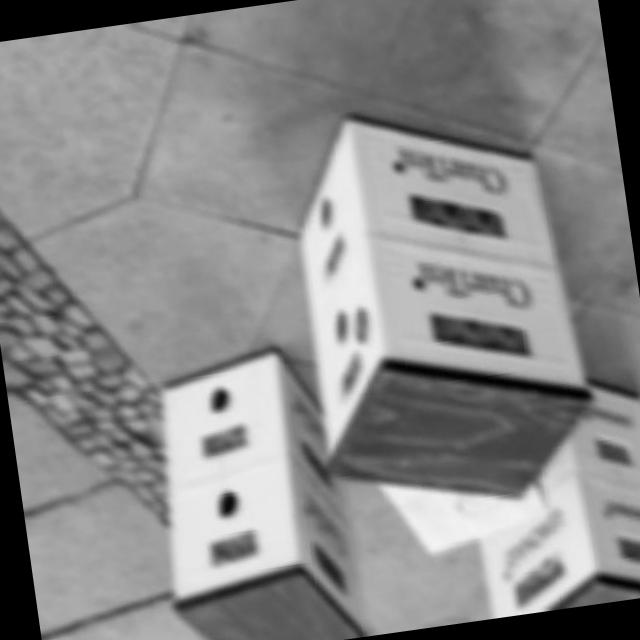box: (274, 52, 606, 528), (134, 319, 372, 640), (443, 369, 640, 615)
